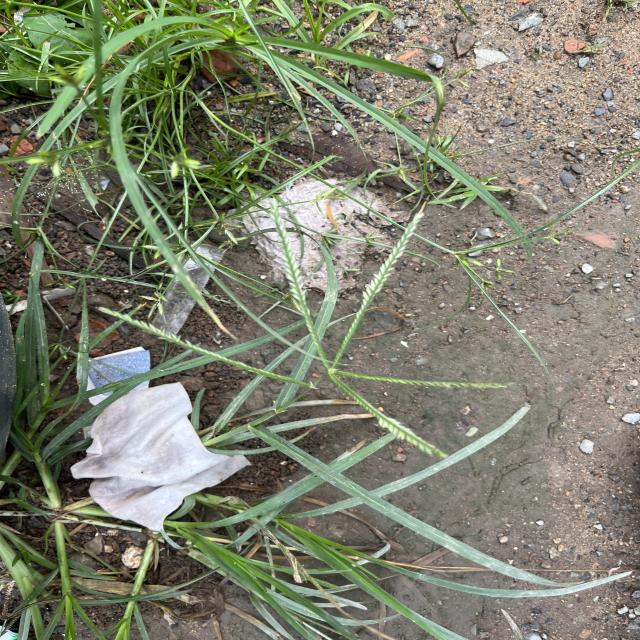napkin: (70, 381, 252, 532)
packet: (150, 243, 227, 337)
